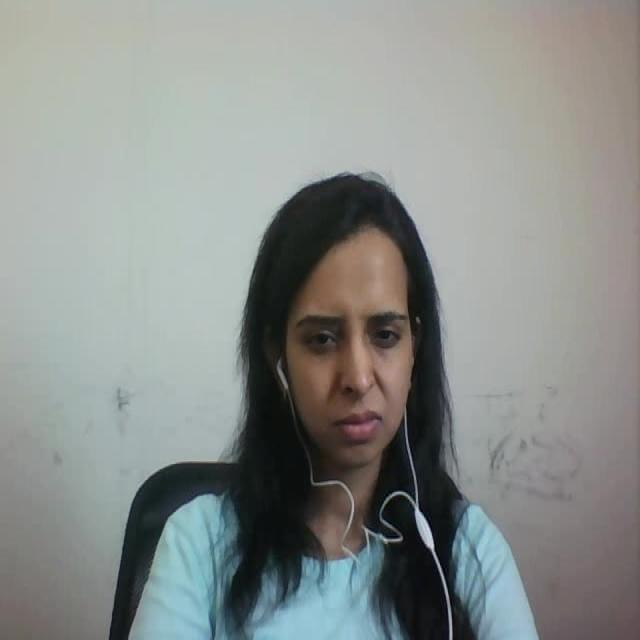Engaged: (235, 158, 453, 496)
